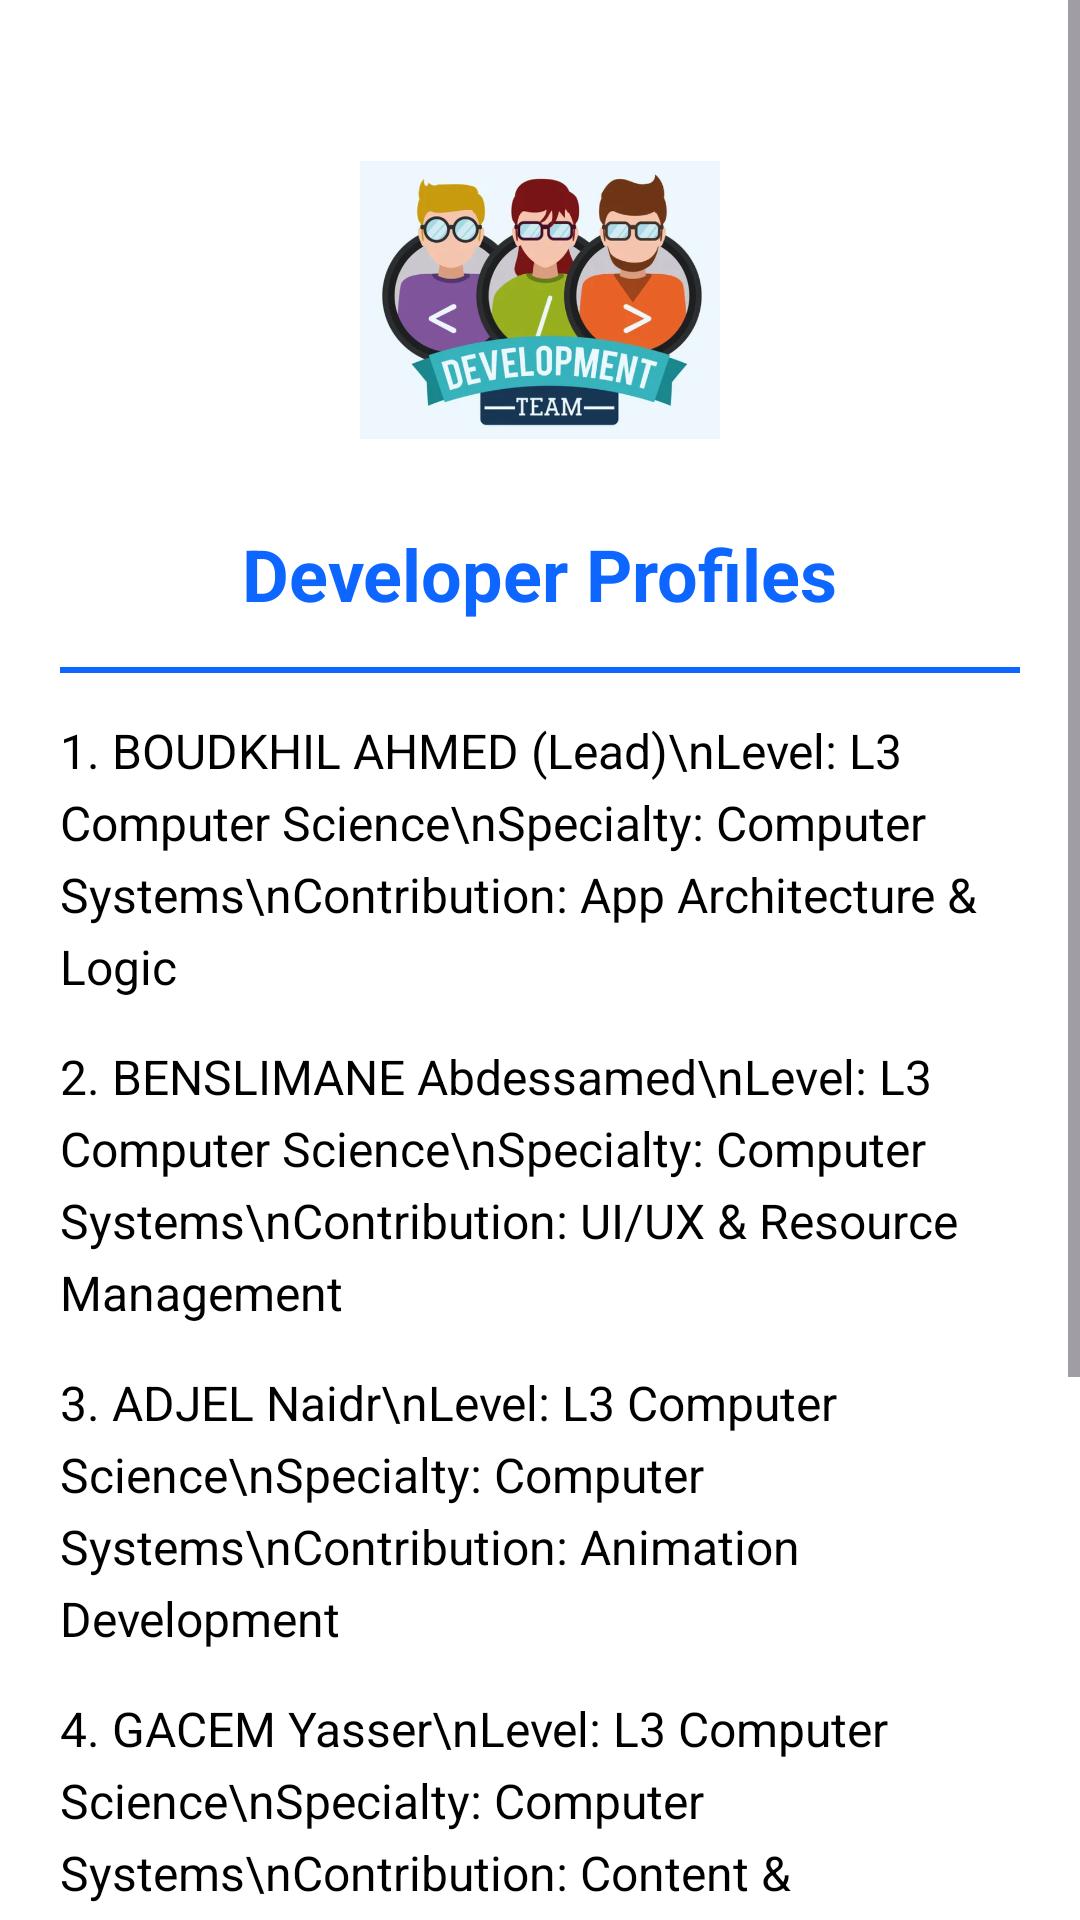

Named icons in this screenshot (1080 x 1920) and their bounding boxes, (x1, y1, x2, y2):
Group Photo: (382, 174, 702, 426)
